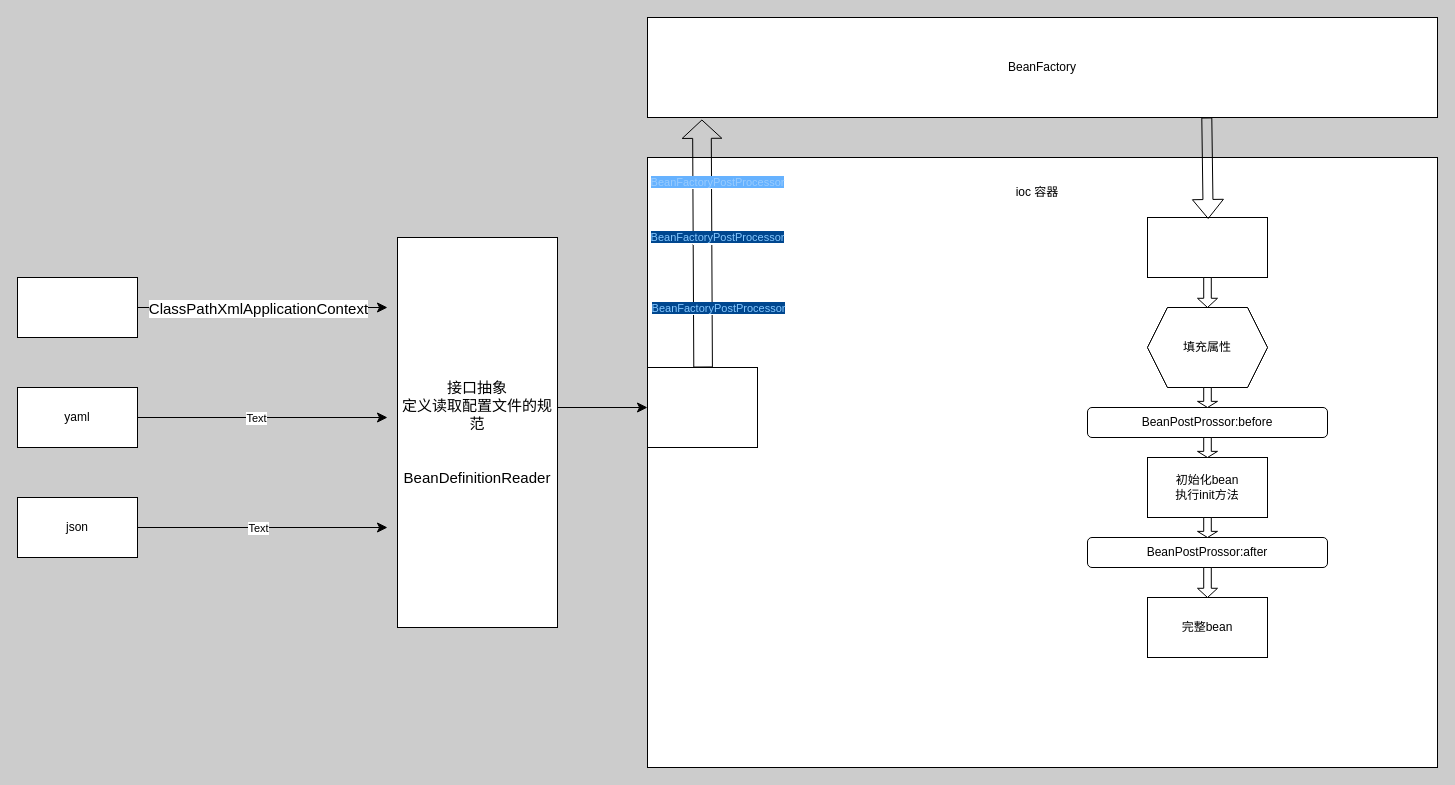
This 1455x785 diagram has some shape labels left out. The centre of each missing label's shape, as x and y in pixels:
bean定义信息 BeanDefinition: [702,407]
xml: [77,307]
实例化bean (在堆中开辟一块空间): [1207,247]
